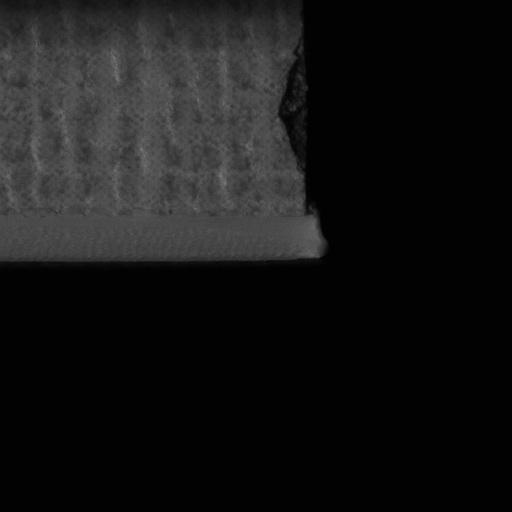bengque: (276, 46, 309, 174)
